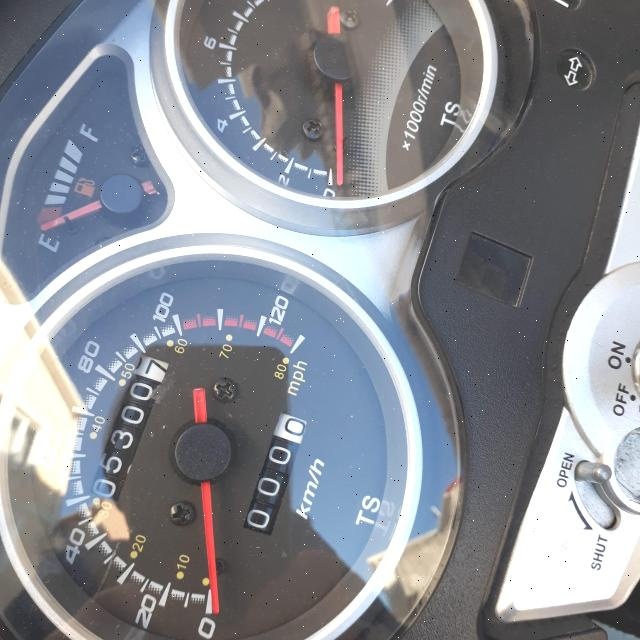odometer: (89, 353, 170, 502)
